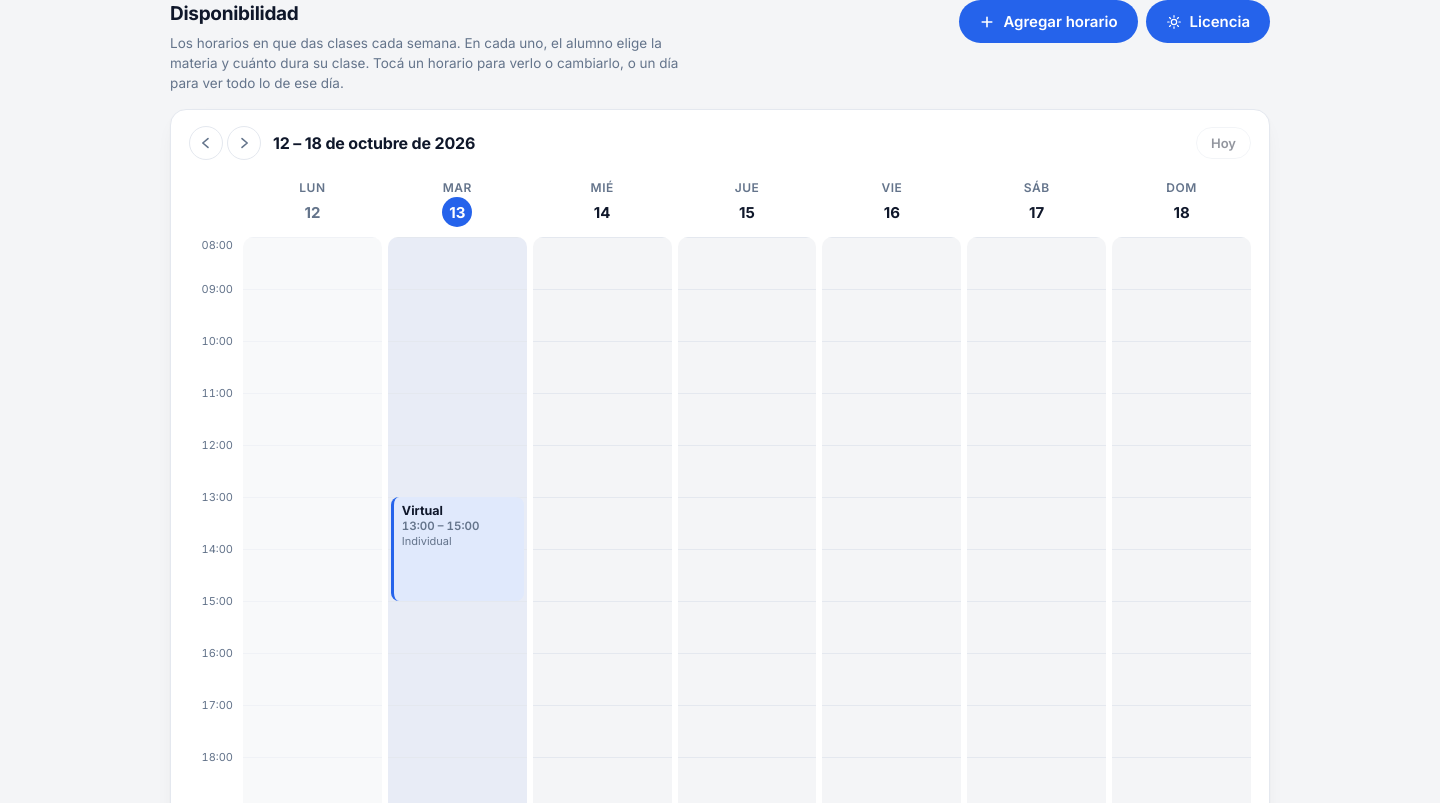
Test: AvailabilityPage — vista de docente › las flechas del modal pasan de día
Step 1. Click the button with aria-label "13:00 a 15:00" → click(457, 549), box x1=391 y1=497 x2=524 y2=601
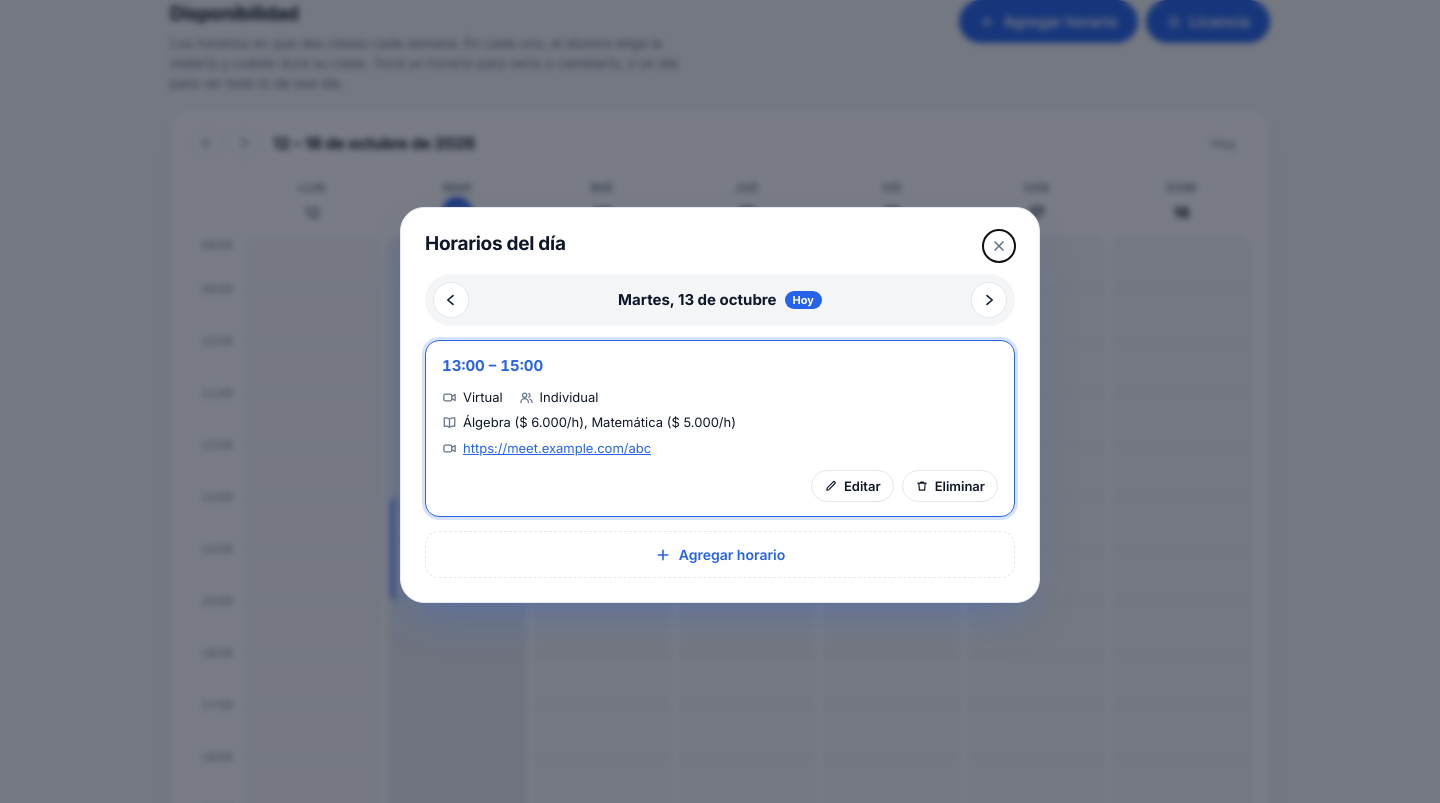
Result: the text "Hoy" is shown at x1=785 y1=291 x2=822 y2=309
Step 2. Click the button named "Día siguiente" → click(989, 300), box x1=971 y1=282 x2=1007 y2=318
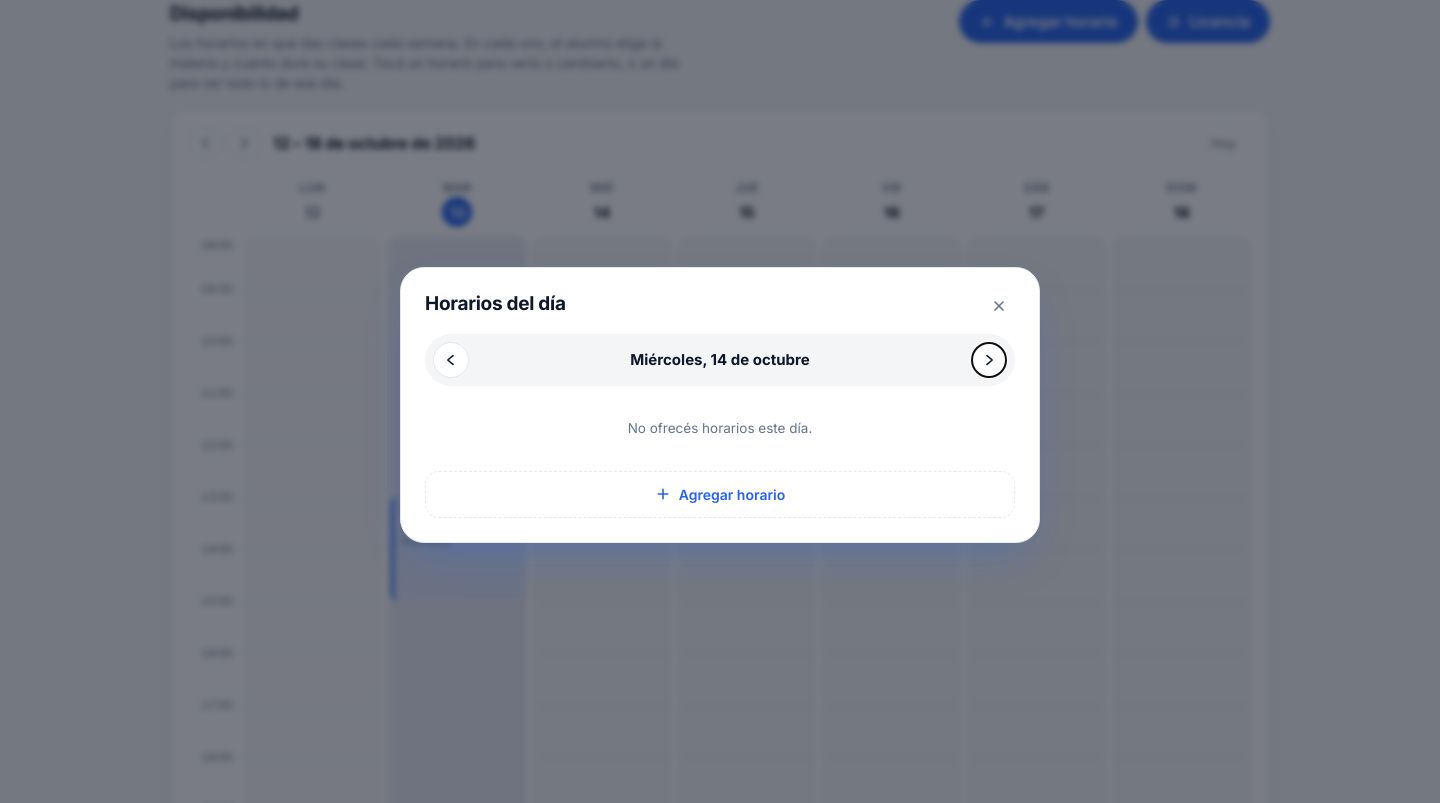
Result: the text "No ofrecés horarios este día." is shown at x1=628 y1=420 x2=812 y2=436
